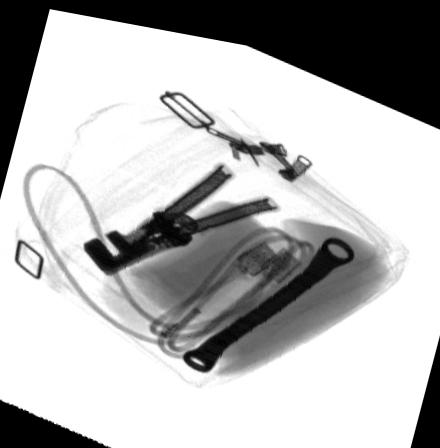Pliers: (81, 154, 280, 272)
Wrench: (177, 223, 356, 367)
